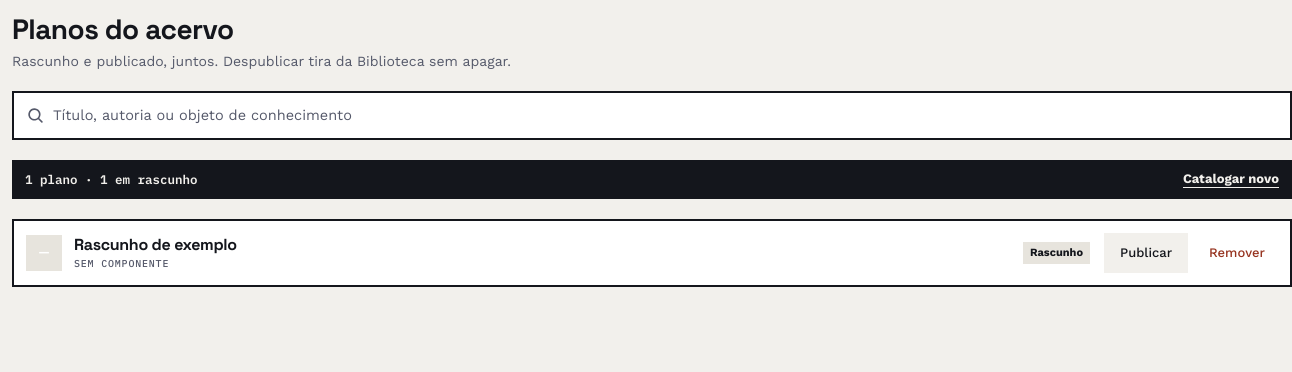
Test case: PaginaPlanos › mostra a mensagem da API quando a remoção é recusada
Expected: the heading "Rascunho de exemplo" is shown, [74,234,237,255]
Click the button "Remover": (1237, 253) [1196,231,1278,275]
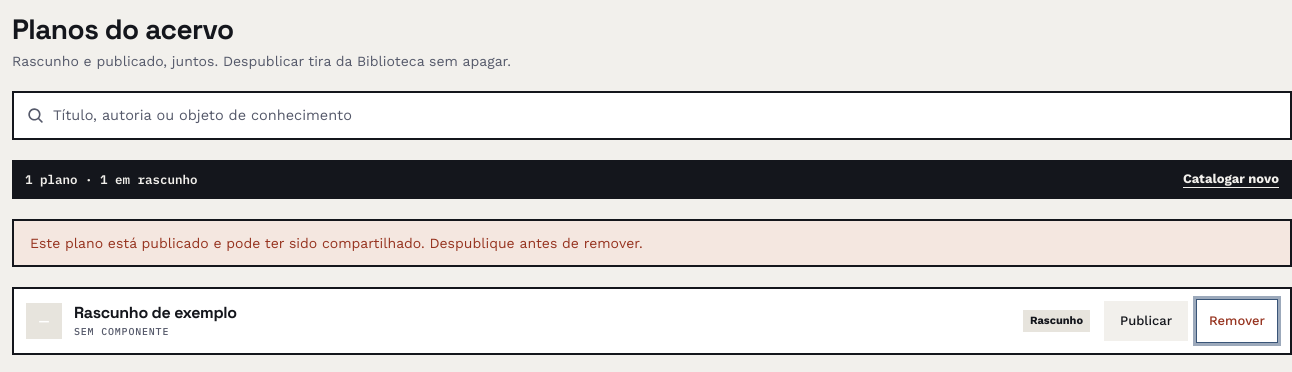
Now the message shows "Despublique antes de remover", box [30,235,643,251]
